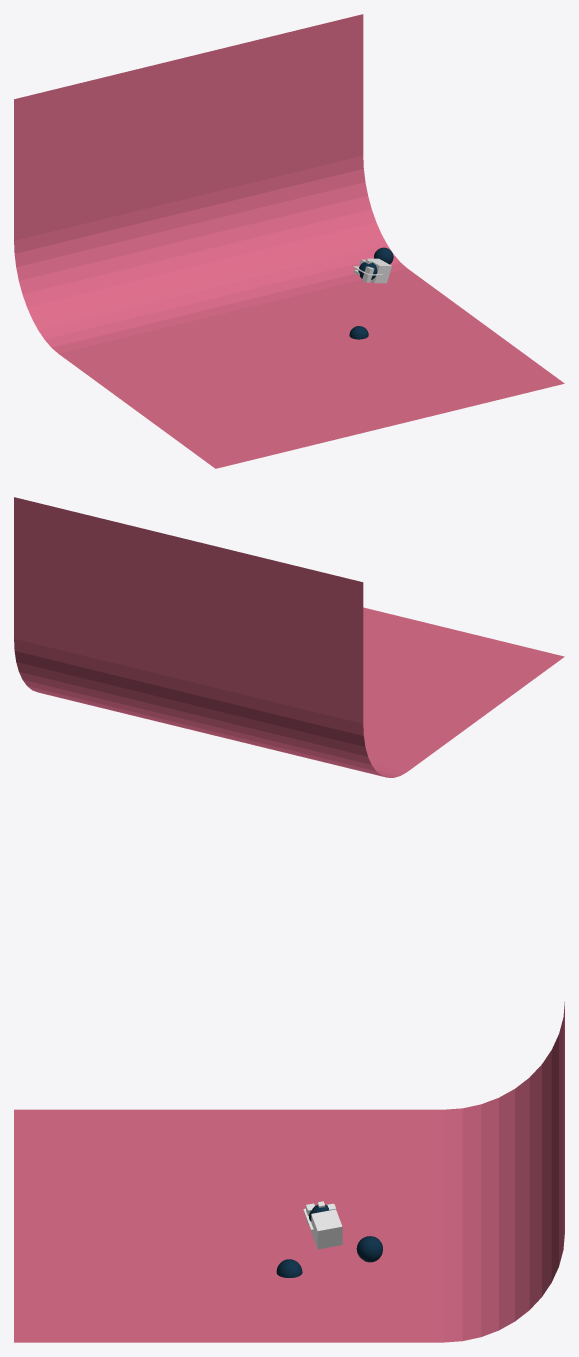
The model's file is fighter8.gltf.
3 renders of one model, top to bottom at view 1: azimuth 30°, elevation 25°; view 2: azimuth 150°, elevation 25°; view 3: azimuth 270°, elevation 25°, orthographic. The views are drawn at different scales.
Visible parts, largest first — view 1: Plane; view 2: Plane; view 3: Plane, Cube.
Part boxes in pixels (x1=…): Plane: x1=14, y1=14, x2=564, y2=468; Plane: x1=14, y1=497, x2=564, y2=777; Plane: x1=14, y1=1002, x2=564, y2=1342; Cube: x1=311, y1=1209, x2=342, y2=1249.
Bounding box in the file's own units: 42.95 × 27.14 × 42.95.
